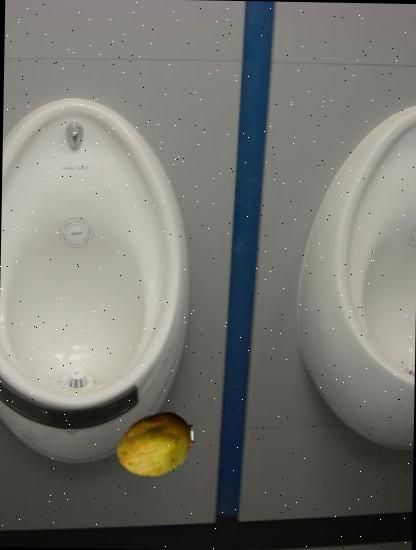Papaya: (116, 404, 194, 483)
